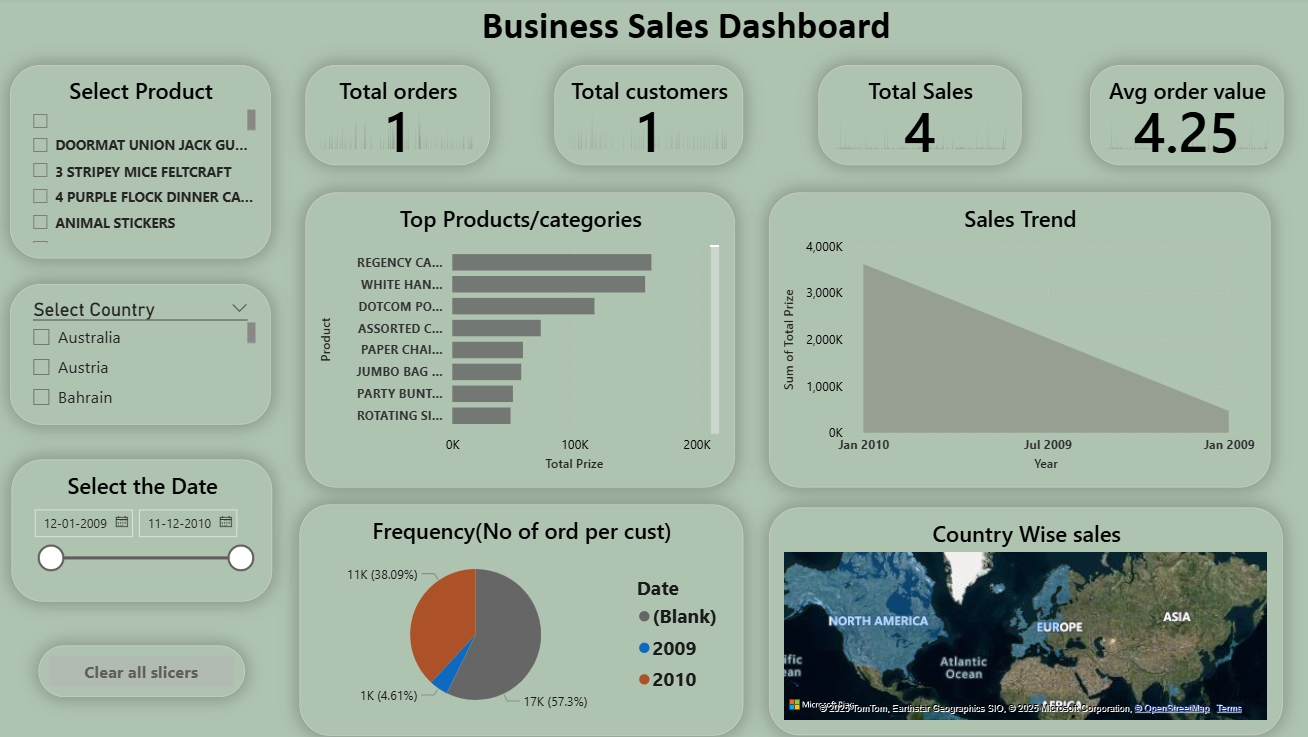

Layout of this report page (visuals, bound fields, positions):
{"tool":"powerbi","page":{"name":"Page 1","canvas":[1280,720],"ordinal":0},"visuals":[{"type":"kpi","title":"Total Sales","fields":{"Indicator":["Year 2009-2010.Total sales"],"TrendLine":["Year 2009-2010.InvoiceDate"]},"box":[796.8,66.8,197.3,97.1],"z":0},{"type":"kpi","title":"Total orders ","fields":{"TrendLine":["Year 2009-2010.InvoiceDate"],"Indicator":["Year 2009-2010.Total orders"]},"box":[299,66.8,179.1,97.1],"z":1000},{"type":"kpi","title":"Total customers","fields":{"Indicator":["Year 2009-2010.Total customers"],"TrendLine":["Year 2009-2010.InvoiceDate"]},"box":[540.3,66.8,183.7,97.1],"z":2000},{"type":"kpi","title":"Avg order value","fields":{"TrendLine":["Year 2009-2010.InvoiceDate"],"Indicator":["Year 2009-2010.Avg order value"]},"box":[1060.9,66.8,188.2,97.1],"z":3000},{"type":"areaChart","title":"Sales Trend","fields":{"Category":["Year 2009-2010.InvoiceDate.Variation.Date Hierarchy.Year","Year 2009-2010.InvoiceDate.Variation.Date Hierarchy.Month"],"Y":["Sum(Year 2009-2010.total prize)"]},"box":[749.8,191.2,487.2,286.9],"z":4000},{"type":"clusteredBarChart","title":"Top Products/categories","fields":{"Category":["Year 2009-2010.Description"],"Y":["Sum(Year 2009-2010.total prize)"]},"box":[299,191.2,417.4,286.9],"z":5000},{"type":"filledMap","title":"Country Wise sales","fields":{"Category":["Year 2009-2010.Country"]},"box":[749.8,497.8,499.4,221.6],"z":6000},{"type":"pieChart","title":"Frequency(No of ord per cust)","fields":{"Y":["Year 2009-2010.number of order per customer"],"Category":["Year 2009-2010.InvoiceDate.Variation.Date Hierarchy.Year","Year 2009-2010.InvoiceDate.Variation.Date Hierarchy.Month"]},"box":[292.9,494.8,431.1,224.6],"z":7000},{"type":"slicer","fields":{"Values":["Year 2009-2010.Country"]},"box":[12.1,279.3,253.5,136.6],"z":8000},{"type":"actionButton","box":[39.5,631.4,200.3,50.1],"z":9000},{"type":"slicer","title":"Select  the Date","fields":{"Values":["Year 2009-2010.InvoiceDate"]},"box":[13.7,450.8,253.5,138.1],"z":10000},{"type":"slicer","title":"Select Product","fields":{"Values":["Year 2009-2010.Description"]},"box":[12.1,66.8,253.5,188.2],"z":11000},{"type":"textbox","box":[464.4,0,484.2,77.4],"z":12000}]}

Visuals, with their boxes in screenshot pixels (x1, y1, x2, y2), scaled from the page's 1280x720 canvas onto the 1308x737 screenshot:
"Total Sales" kpi: Rect(814, 68, 1016, 168)
"Total orders " kpi: Rect(306, 68, 489, 168)
"Total customers" kpi: Rect(552, 68, 740, 168)
"Avg order value" kpi: Rect(1084, 68, 1276, 168)
"Sales Trend" areaChart: Rect(766, 196, 1264, 489)
"Top Products/categories" clusteredBarChart: Rect(306, 196, 732, 489)
"Country Wise sales" filledMap: Rect(766, 510, 1277, 736)
"Frequency(No of ord per cust)" pieChart: Rect(299, 506, 740, 736)
slicer - Year 2009-2010.Country: Rect(12, 286, 271, 426)
actionButton: Rect(40, 646, 245, 698)
"Select  the Date" slicer: Rect(14, 461, 273, 603)
"Select Product" slicer: Rect(12, 68, 271, 261)
textbox: Rect(475, 0, 969, 79)
